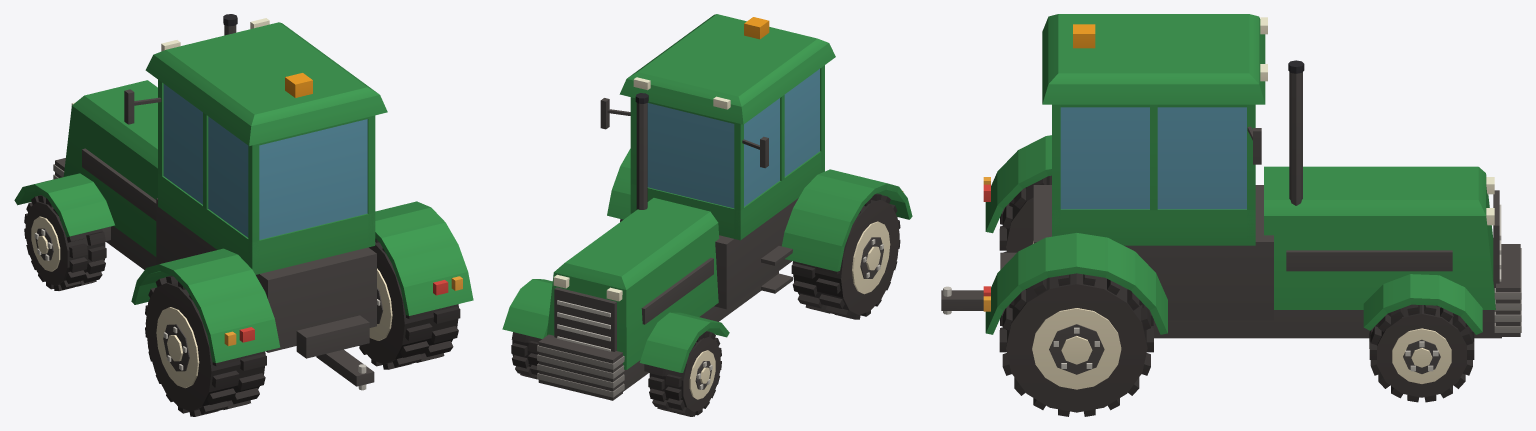
Rendered from tractor_basic.glb.
3 renders of one model, left to right at view 1: azimuth 30°, elevation 25°; view 2: azimuth 150°, elevation 25°; view 3: azimuth 270°, elevation 25°, orthographic. The views are drawn at different scales.
Parts seen in each view (by area): view 1: tractor_basic, spin_rear_L, spin_rear_R, spin_front_L, fender_front_L; view 2: tractor_basic, spin_rear_L, spin_front_L, fender_front_L, fender_front_R, spin_front_R; view 3: tractor_basic, spin_rear_R, spin_front_R, fender_front_R, spin_rear_L.
Boxes of the visible parts, left/top/right/bottom form: tractor_basic: left=53, top=14, right=473, bottom=390; spin_rear_L: left=145, top=275, right=266, bottom=416; spin_rear_R: left=359, top=238, right=460, bottom=369; spin_front_L: left=24, top=195, right=106, bottom=290; fender_front_L: left=14, top=173, right=114, bottom=237; tractor_basic: left=537, top=14, right=912, bottom=400; spin_rear_L: left=791, top=193, right=900, bottom=319; spin_front_L: left=648, top=331, right=721, bottom=416; fender_front_L: left=639, top=312, right=729, bottom=372; fender_front_R: left=502, top=279, right=552, bottom=338; spin_front_R: left=511, top=332, right=541, bottom=379; tractor_basic: left=941, top=14, right=1521, bottom=338; spin_rear_R: left=999, top=273, right=1153, bottom=416; spin_front_R: left=1369, top=304, right=1474, bottom=402; fender_front_R: left=1363, top=274, right=1482, bottom=334; spin_rear_L: left=999, top=175, right=1051, bottom=252.
Bounding box in the file's own units: 2.6 × 2.9 × 4.71.
Materials: 3 (3 with a texture image).
